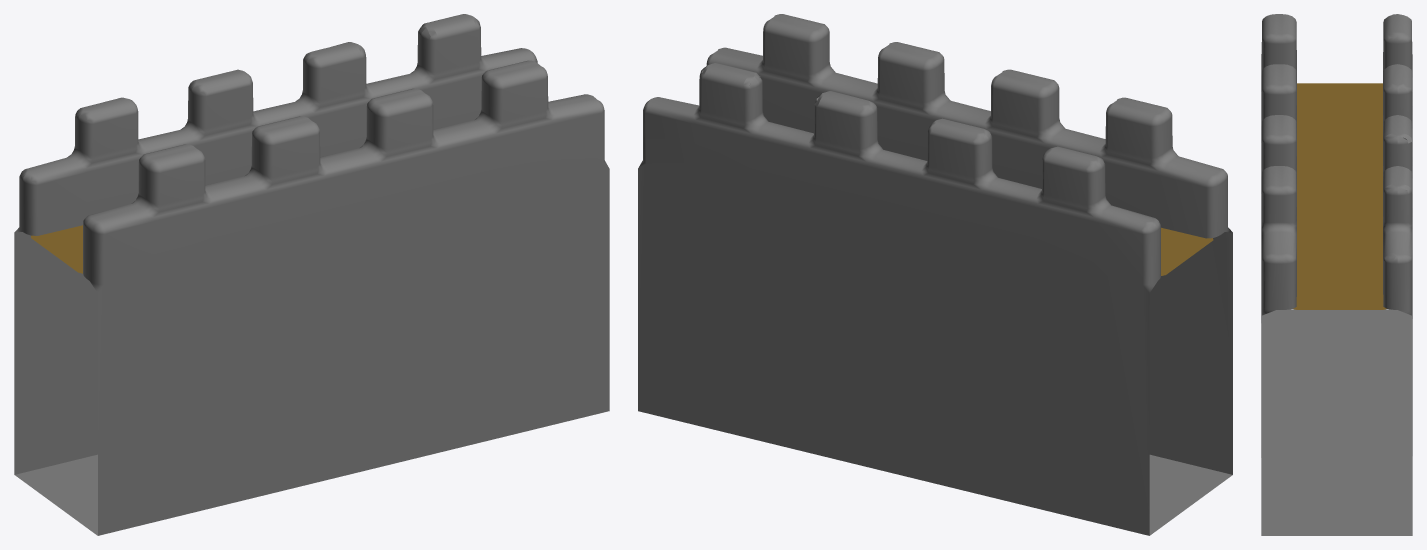
The model's file is Castle_Wall.fbx.
3 views of the same model, side by side, from view 1: azimuth 30°, elevation 25°; view 2: azimuth 150°, elevation 25°; view 3: azimuth 270°, elevation 25° (orthographic). The views are drawn at different scales.
Parts seen in each view (by area): view 1: pCube1; view 2: pCube1; view 3: pCube1.
Boxes of the visible parts, x1,y1,x2,y2 form: pCube1: [14, 14, 609, 535]; pCube1: [638, 14, 1232, 535]; pCube1: [1261, 14, 1412, 535].
Bounding box in the file's own units: 19.51 × 12.99 × 5.51.
